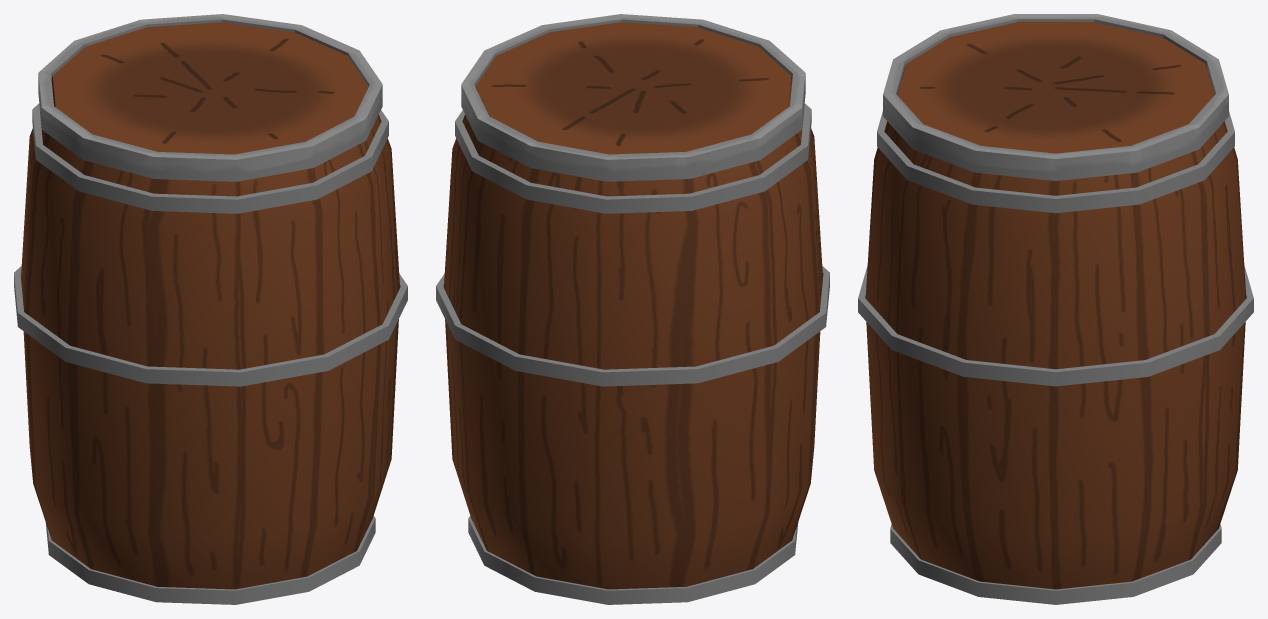
The model's file is barril.fbx.
3 views of the same model, side by side, from view 1: azimuth 30°, elevation 25°; view 2: azimuth 150°, elevation 25°; view 3: azimuth 270°, elevation 25° (orthographic).
Visible parts, largest first — view 1: Cuerpo_barril, Bordes_barril; view 2: Cuerpo_barril, Bordes_barril; view 3: Cuerpo_barril, Bordes_barril.
Boxes of the visible parts, box(x1,y1,x2,y2) form: Cuerpo_barril: box(21, 22, 399, 589); Bordes_barril: box(14, 14, 407, 604); Cuerpo_barril: box(444, 22, 822, 589); Bordes_barril: box(436, 14, 829, 604); Cuerpo_barril: box(865, 22, 1246, 589); Bordes_barril: box(858, 14, 1253, 604).
Bounding box in the file's own units: 732 × 922 × 737.
